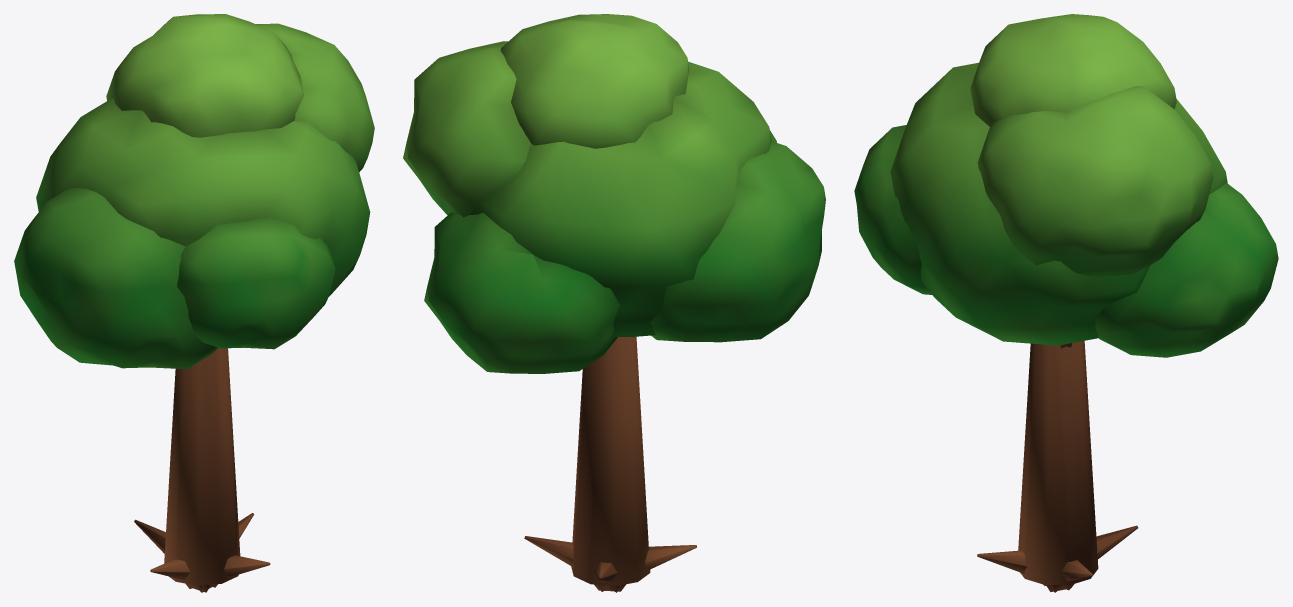
File: tree_round.glb
The picture shows the model from 3 angles, left to right: view 1: azimuth 30°, elevation 25°; view 2: azimuth 150°, elevation 25°; view 3: azimuth 270°, elevation 25°; orthographic projection. The views are drawn at different scales.
Visible parts, largest first — view 1: tree_round; view 2: tree_round; view 3: tree_round.
Boxes of the visible parts, left/top/right/bottom form: tree_round: left=14, top=14, right=374, bottom=592; tree_round: left=403, top=14, right=825, bottom=592; tree_round: left=854, top=14, right=1278, bottom=592.
Bounding box in the file's own units: 2.9 × 4.32 × 2.92.
